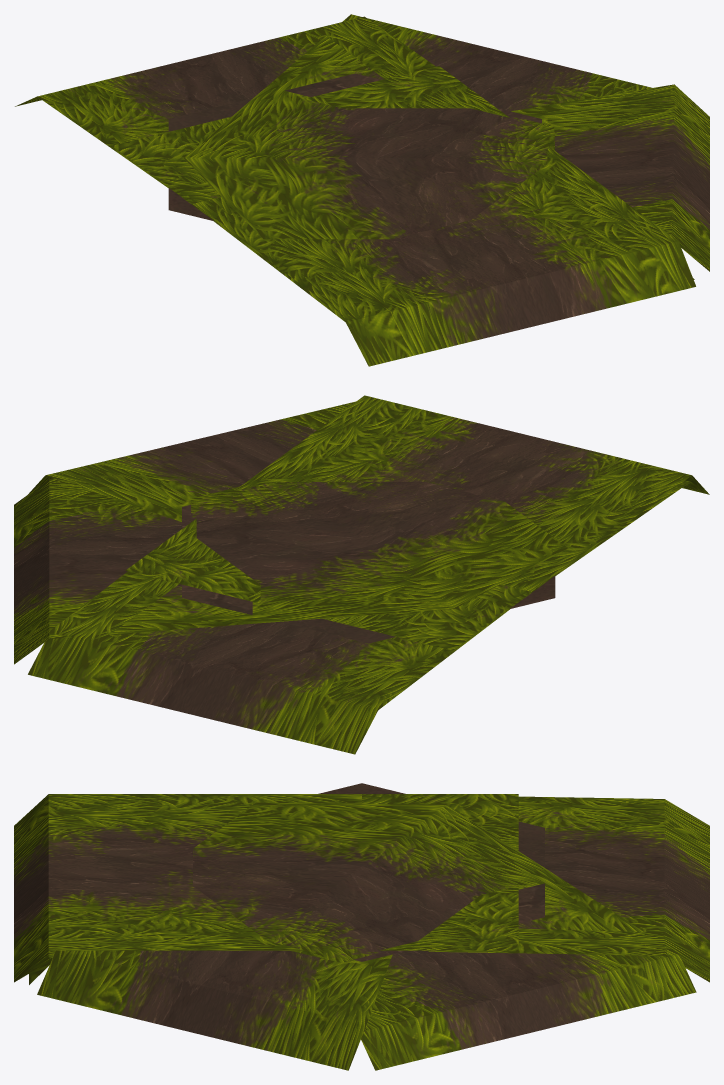
The model's file is PathTile.fbx.
3 views of the same model, one above another, from view 1: azimuth 30°, elevation 25°; view 2: azimuth 150°, elevation 25°; view 3: azimuth 270°, elevation 25° (orthographic).
Visible parts, largest first — view 1: Path.Straight.End, Path.Curve.Smooth, Path.Curve.Sharp, Path.Straight, PathChunk.Center; view 2: Path.Curve.Smooth, Path.Straight.End, Path.Straight, Path.Curve.Sharp, PathChunk.Center; view 3: Path.Curve.Smooth, Path.Straight.End, Path.Curve.Sharp, Path.Straight, PathChunk.Center.
Part boxes in pixels (box(x1,y1,x2,y2)): Path.Straight.End: box(112, 66, 695, 366); Path.Curve.Smooth: box(184, 14, 651, 363); Path.Curve.Sharp: box(511, 84, 709, 271); Path.Straight: box(15, 16, 435, 364); PathChunk.Center: box(168, 73, 541, 220); Path.Curve.Smooth: box(14, 478, 708, 664); Path.Straight.End: box(125, 395, 691, 650); Path.Straight: box(28, 483, 708, 754); Path.Curve.Sharp: box(28, 401, 709, 521); PathChunk.Center: box(182, 505, 555, 643); Path.Curve.Smooth: box(15, 802, 696, 1070); Path.Straight.End: box(14, 794, 518, 982); Path.Curve.Sharp: box(37, 950, 392, 1070); Path.Straight: box(15, 796, 709, 982); PathChunk.Center: box(318, 783, 544, 961).
Size of the model in its own units: 8.32 by 0.5771 by 9.56.
